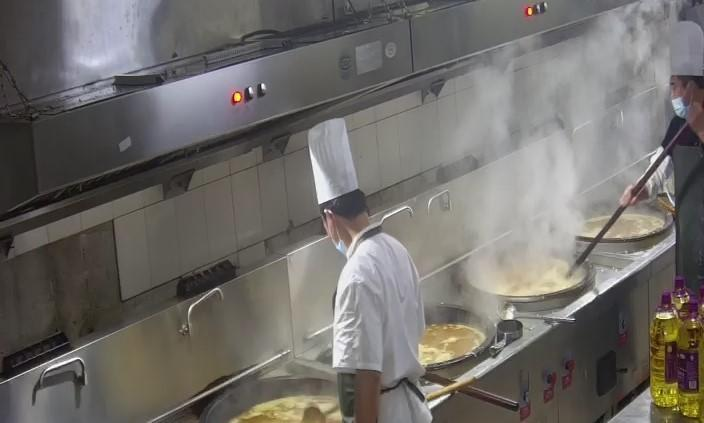mask: (670, 87, 694, 121), (328, 217, 347, 257)
no_apron: (617, 181, 653, 210)
